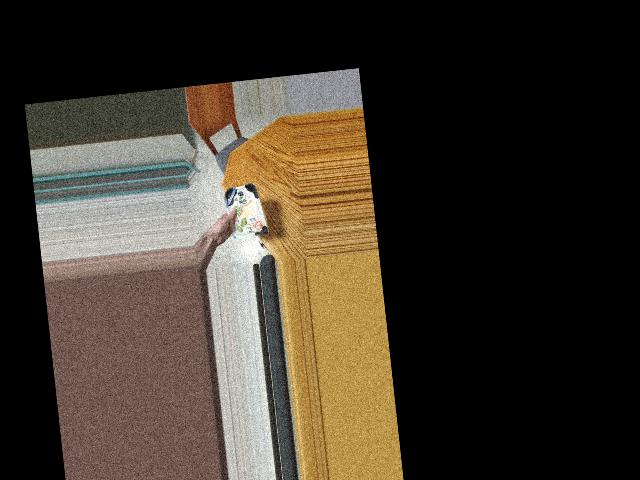cheese: (217, 183, 269, 240)
